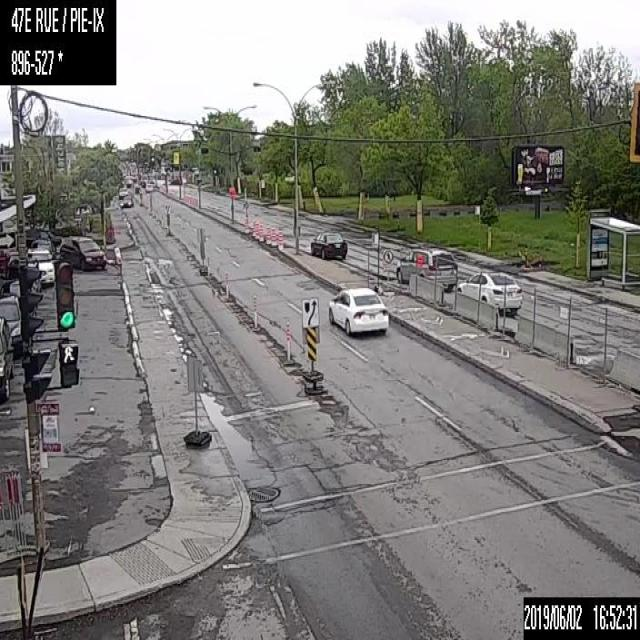construction: (282, 319, 293, 365), (251, 292, 258, 330), (224, 270, 229, 300), (277, 230, 283, 248), (252, 220, 258, 238), (258, 222, 264, 240), (270, 227, 276, 245), (264, 225, 270, 242)
vehicle: (326, 285, 389, 336), (455, 269, 523, 315), (394, 240, 462, 286), (59, 234, 105, 266), (0, 290, 21, 354), (309, 229, 348, 260), (0, 315, 13, 401), (26, 248, 54, 280), (24, 227, 60, 250), (0, 277, 23, 300), (29, 238, 54, 258), (117, 191, 133, 208)
